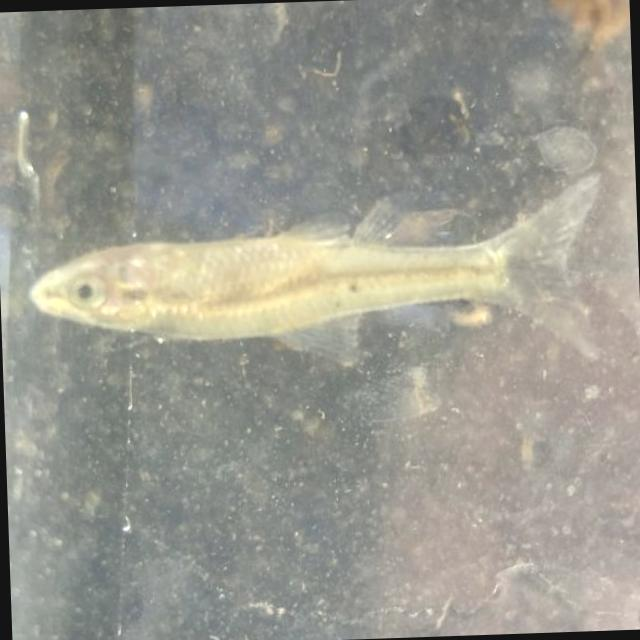Cakil Baligi: (21, 166, 619, 382)
